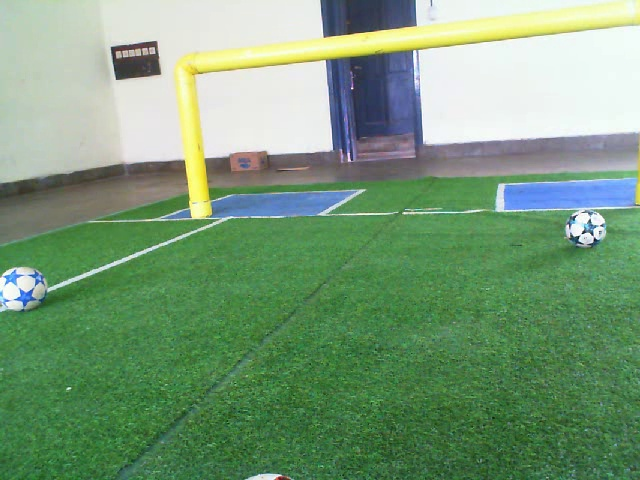ball: (1, 264, 50, 314), (563, 207, 609, 250)
